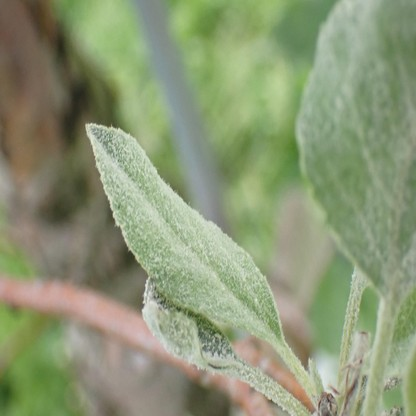powder: (86, 123, 283, 343), (296, 1, 416, 310), (143, 275, 234, 374), (385, 296, 416, 388)
